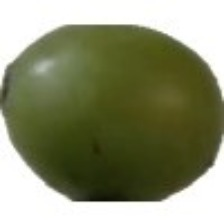grapes: (19, 16, 176, 201)
